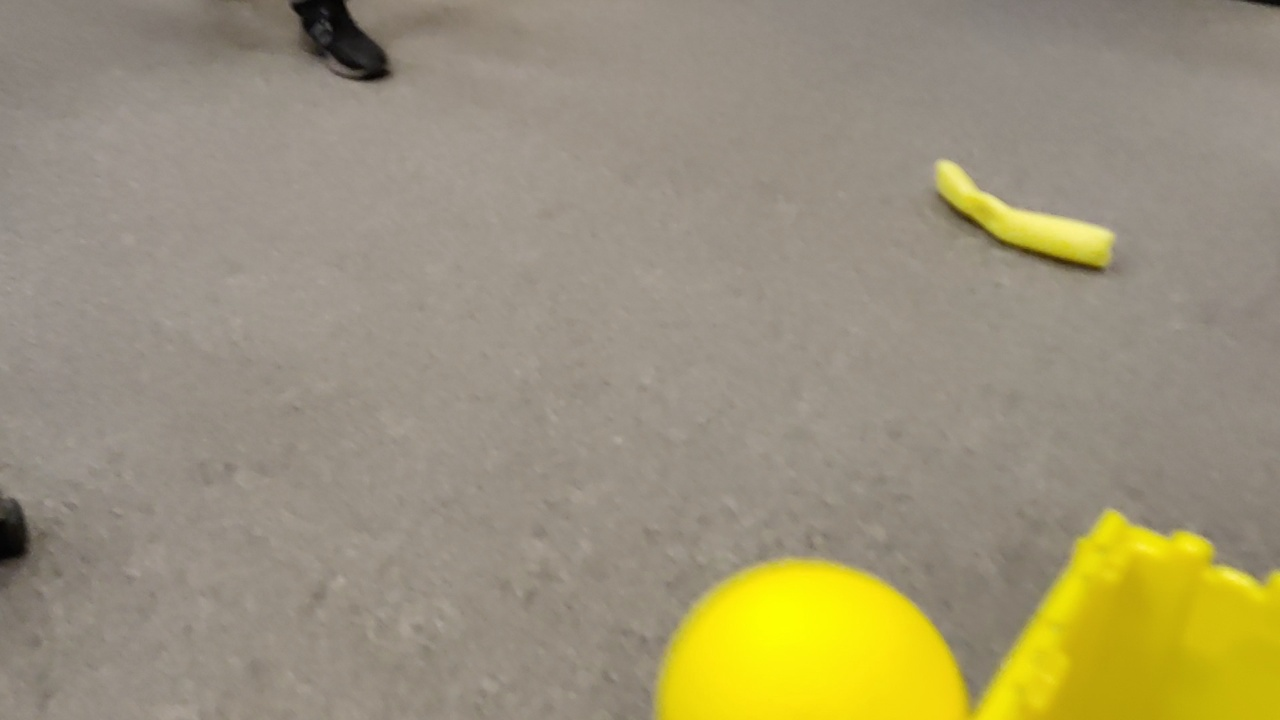Ball: (653, 557, 971, 720)
